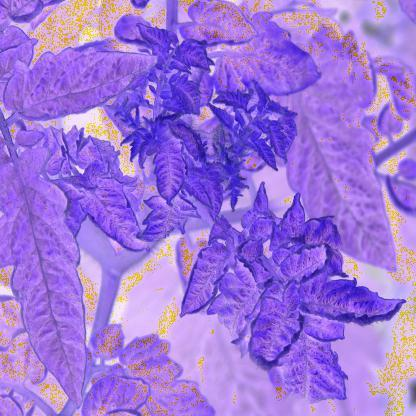Tomato leaf: (0, 138, 106, 400), (2, 34, 180, 121), (197, 38, 324, 100), (74, 164, 156, 260), (296, 270, 416, 330), (238, 291, 308, 382), (176, 230, 237, 325), (286, 324, 359, 402), (264, 238, 344, 286), (146, 136, 192, 203), (186, 156, 236, 209), (246, 136, 283, 170), (266, 121, 292, 154)
